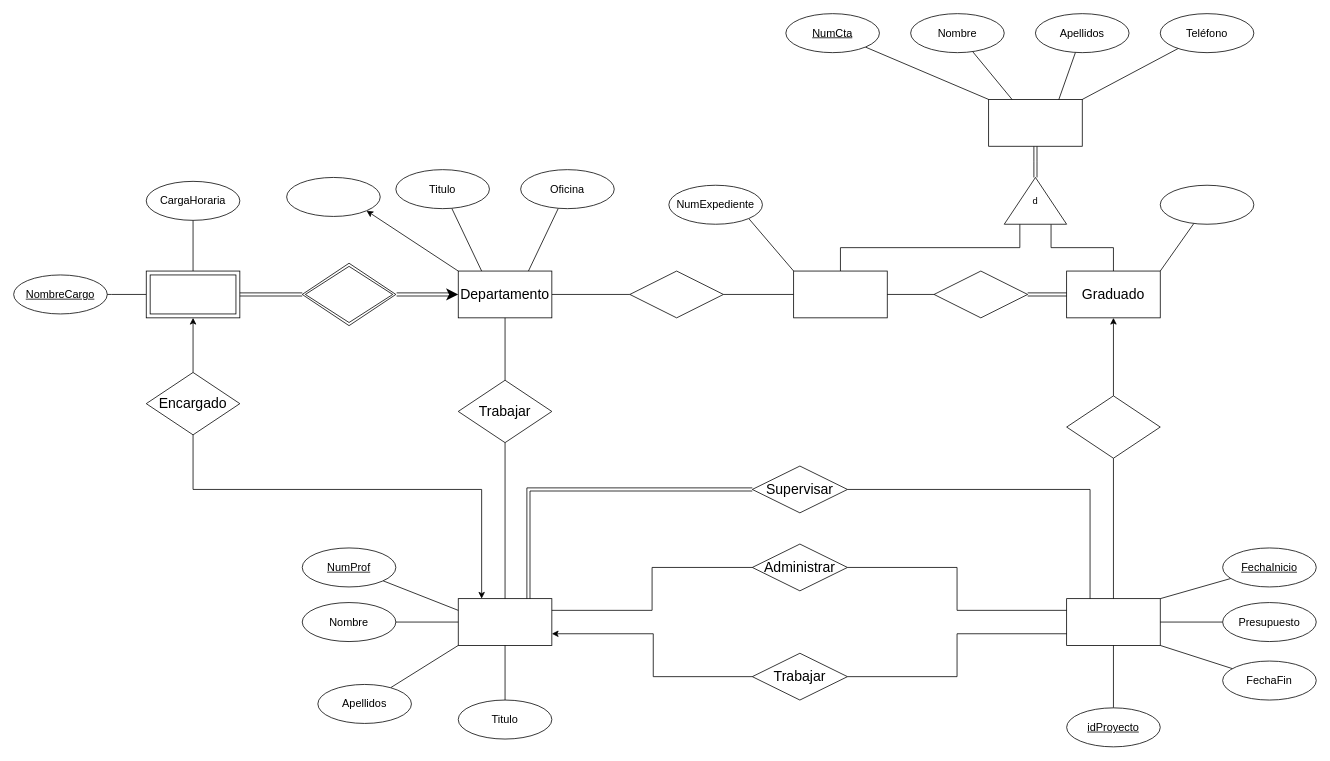
The diagram is 1330 pixels wide and 761 high, and some of its shapes have lost their labels. The centre of each missing label's shape, as x and y in pixels:
Alumno: the point at 1035,122
Cargo: the point at 192,294
Estudiar: the point at 676,294
NoGraduado: the point at 840,294
Número: the point at 333,196
Participar: the point at 1113,426
Profesor: the point at 504,621
Proyecto: the point at 1113,621
Tener: the point at 348,294
Tutorar: the point at 980,294
Título: the point at 1206,204
